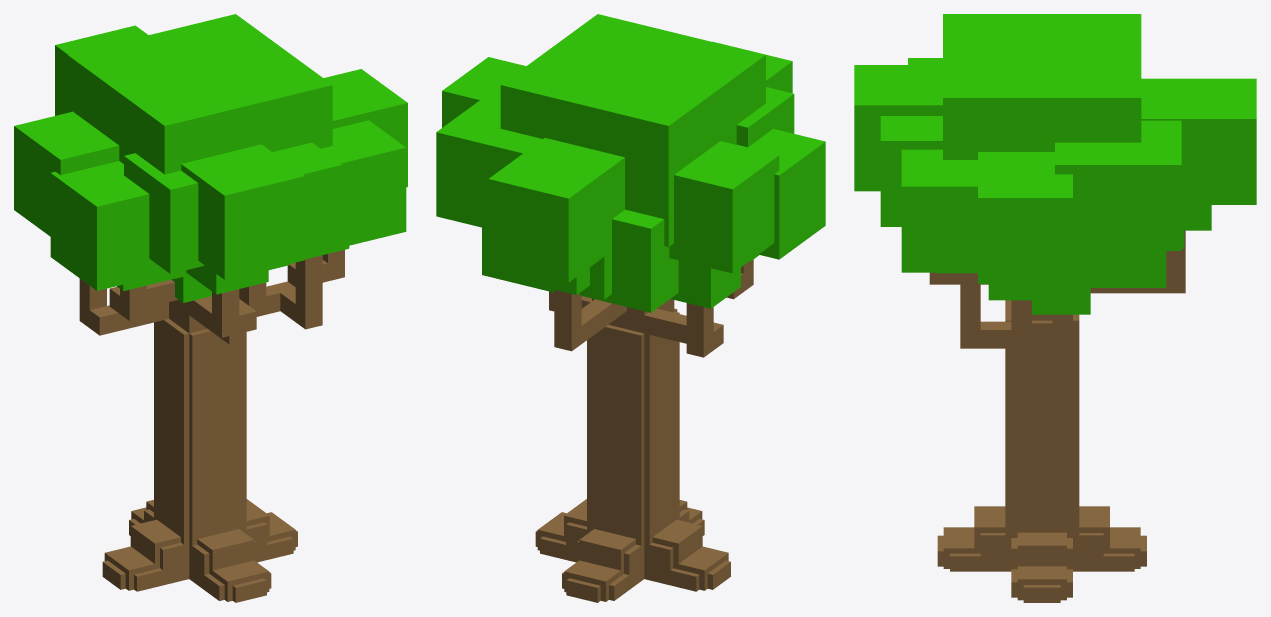
The model's file is tree1.fbx.
3 renders of one model, left to right at view 1: azimuth 30°, elevation 25°; view 2: azimuth 150°, elevation 25°; view 3: azimuth 270°, elevation 25°, orthographic. The views are drawn at different scales.
Visible parts, largest first — view 1: tree_foliage, tree_trunk; view 2: tree_foliage, tree_trunk; view 3: tree_foliage, tree_trunk.
Boxes of the visible parts, x1,y1,x2,y2 form: tree_foliage: (14, 14, 407, 302); tree_trunk: (79, 250, 344, 602); tree_foliage: (436, 14, 825, 312); tree_trunk: (535, 259, 753, 602); tree_foliage: (854, 14, 1256, 314); tree_trunk: (929, 230, 1185, 602).
Size of the model in its own units: 621 by 901 by 653.
